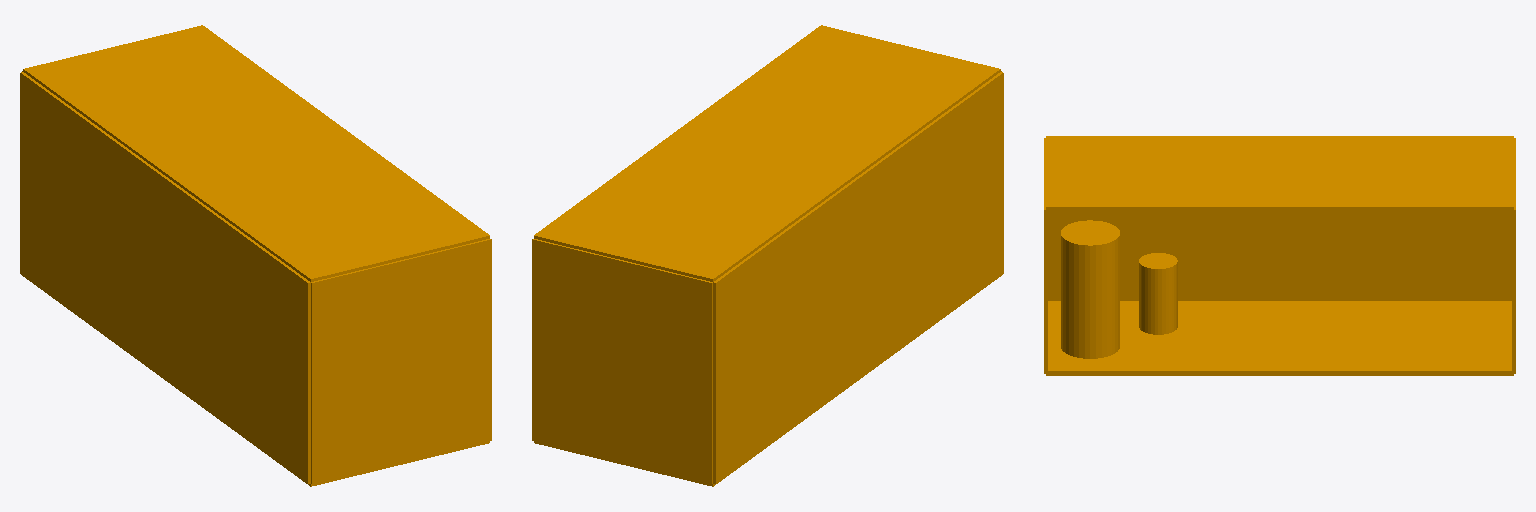
URDF robot description (syn_can_cabinet_1724):
<?xml version="1.0" ?>
<robot name="syn_can_cabinet_1724">
    <link concave="yes" name="base_link">
        <inertial>
            <origin rpy="0 0 0" xyz="0 0 0"/>
            <mass value="0.0"/>
            <inertia ixx="1e-08" ixy="0" ixz="0" iyy="1e-08" iyz="0" izz="1e-08"/>
        </inertial>
        <visual>
            <origin xyz="0 0 0" rpy="0 0 0" />
            <geometry>
                <mesh filename="syn_can_cabinet_1724.obj" scale="1.000000 1.000000 1.000000"/>
            </geometry>         
        </visual>

        <collision concave="yes">
            <origin xyz="0 0 0" rpy="0 0 0"/>
            <geometry>
                <mesh filename="syn_can_cabinet_1724.obj" scale="1.000000 1.000000 1.000000"/>
            </geometry>
        </collision>
    </link>
</robot>
    

--- Render facts (derived) ---
3 views of the same robot in one strip: view 1: azimuth 30°, elevation 25°; view 2: azimuth 150°, elevation 25°; view 3: azimuth 270°, elevation 25° (orthographic).
Robot: syn_can_cabinet_1724 — 1 links, 0 joints (none); root link base_link; default pose: every joint at zero.
Links seen in each view (by area): view 1: base_link; view 2: base_link; view 3: base_link.
Boxes of the visible links, left/top/right/bottom form: base_link: left=20, top=25, right=491, bottom=486; base_link: left=532, top=25, right=1003, bottom=486; base_link: left=1044, top=136, right=1515, bottom=375.
Size in the robot's own frame: 0.1776 by 0.4886 by 0.1931 metres.
1 mesh visuals loaded from 1 distinct referenced files (1 OBJ).
